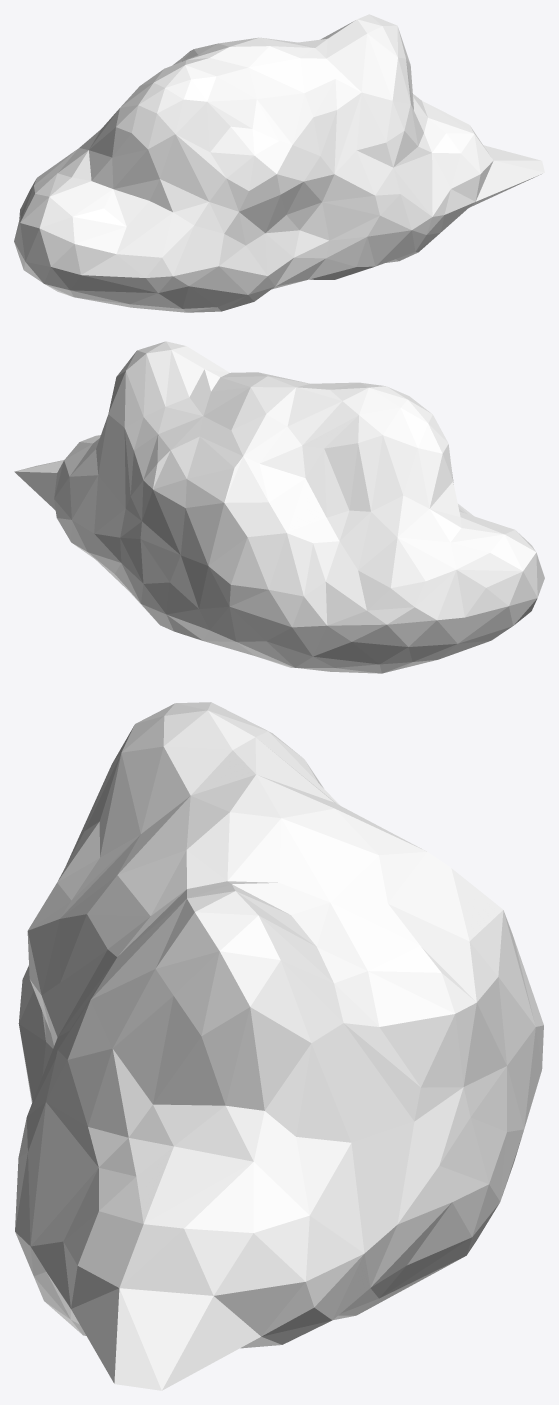
File: cloud3.fbx
3 views of the same model, one above another, from view 1: azimuth 30°, elevation 25°; view 2: azimuth 150°, elevation 25°; view 3: azimuth 270°, elevation 25° (orthographic). The views are drawn at different scales.
Visible parts, largest first — view 1: Cloud_03; view 2: Cloud_03; view 3: Cloud_03.
Part boxes in pixels (left/top/right/bottom): Cloud_03: left=14, top=14, right=544, bottom=312; Cloud_03: left=14, top=341, right=544, bottom=673; Cloud_03: left=15, top=702, right=543, bottom=1390.
Bounding box in the file's own units: 242 × 105 × 110.
